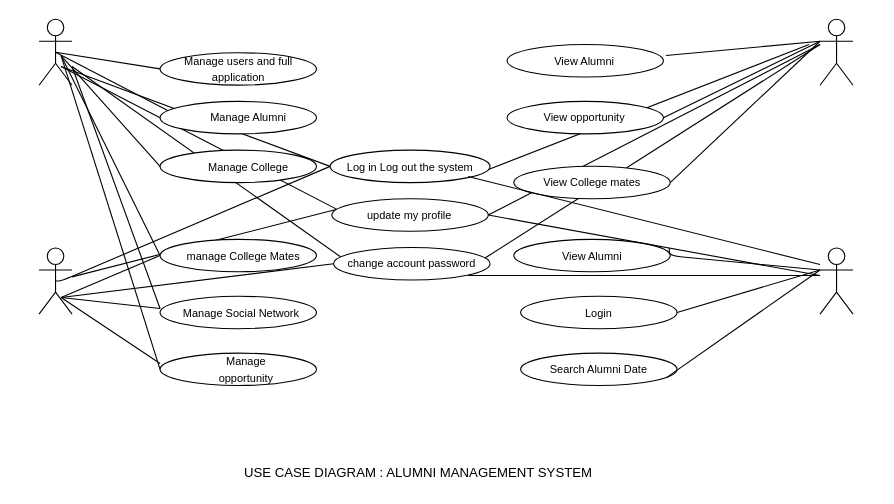
Image size: 894x504. Some labels were removed from this diagram. Each missing label, with the centre of its shape:
"College mate" goes at [836,51].
"Student" goes at [836,280].
"Super Admin" goes at [55,51].
"System user" goes at [55,280].
